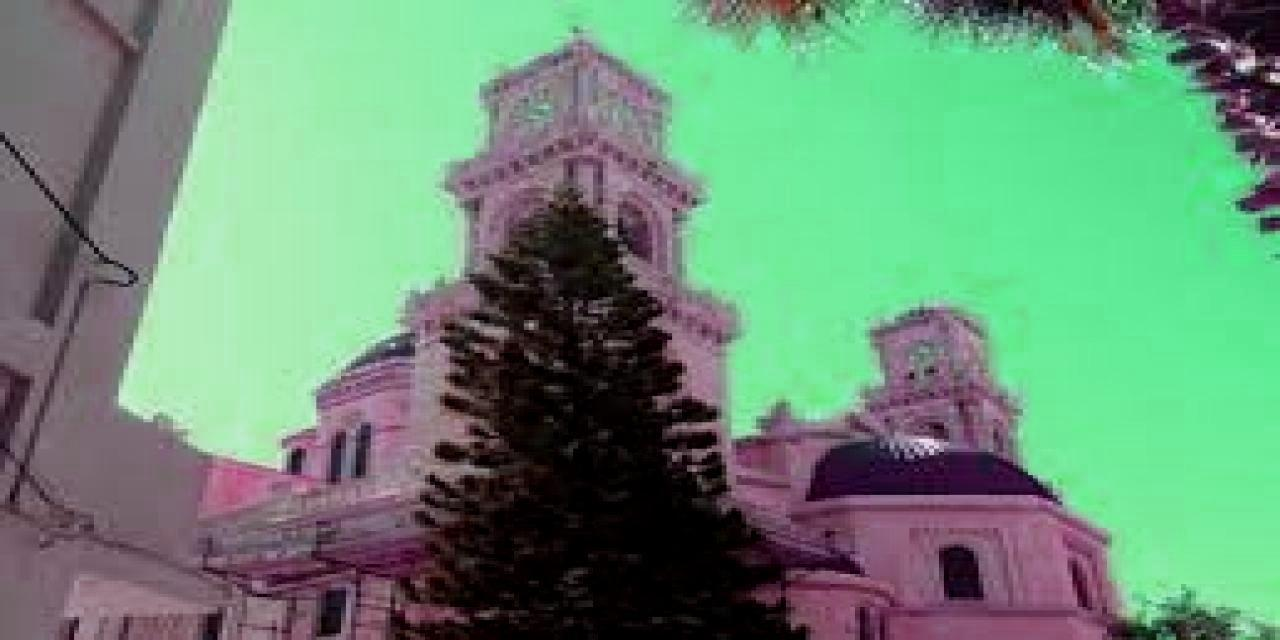Agios Minas: (271, 26, 1135, 640)
